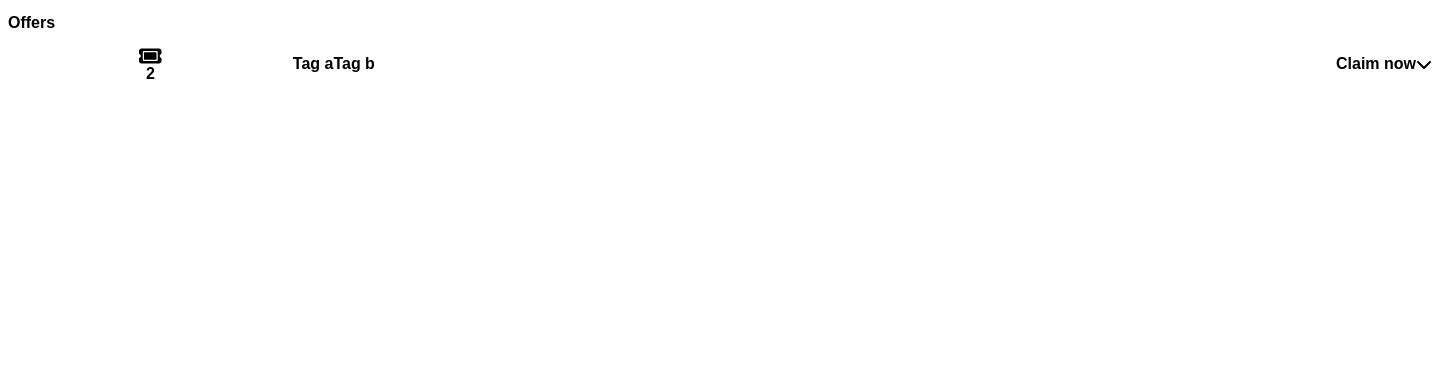
Test: store page offers › starts closed with a tag per offer, and opens the cards on Claim now
expect the text "Tag a" is shown: met, box [293,52,333,76]
expect the heading "Bread deal" is not shown: met
Click the button "2 Tag a Tag b Claim now" at (313, 63), box [8,46,1432,82]
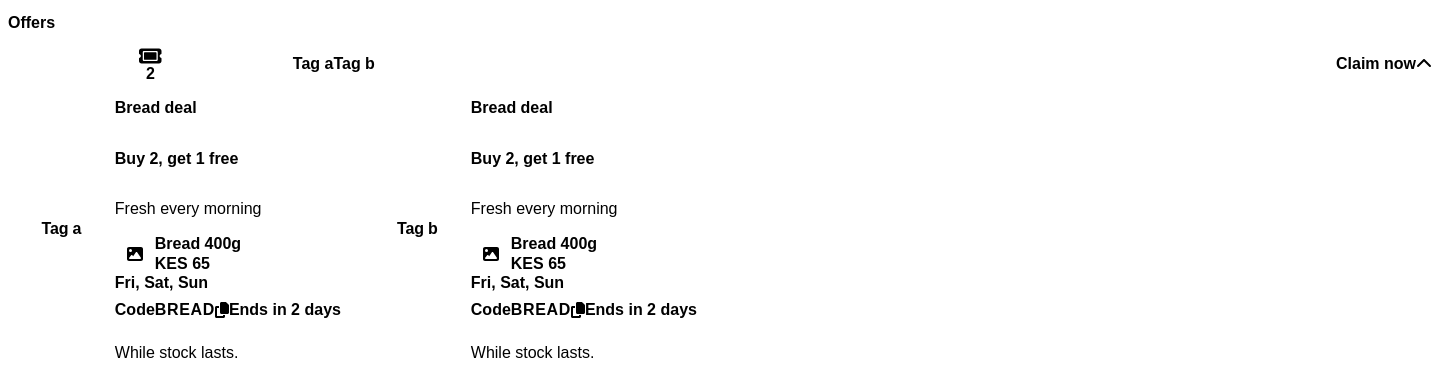
expect the button "2 Tag a Tag b Claim now" is expanded: met, box [8,46,1432,82]
expect the number of headings "Bread deal" is 2: met, box [115,98,197,116]; [471,98,553,116]
